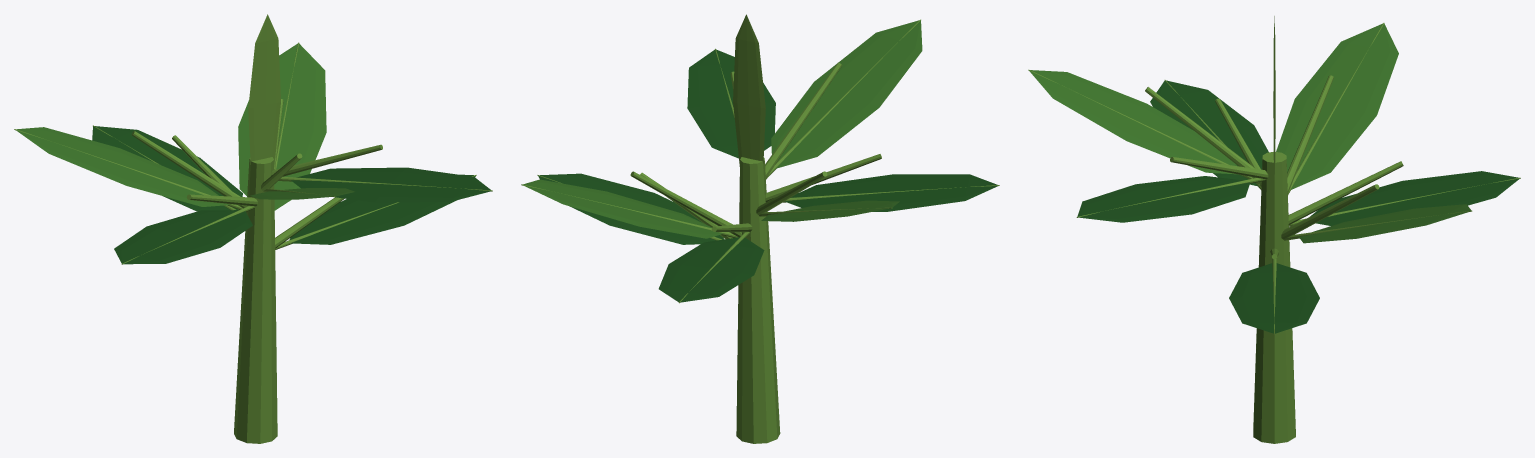
The model's file is edited.glb.
The picture shows the model from 3 angles, left to right: view 1: azimuth 30°, elevation 25°; view 2: azimuth 150°, elevation 25°; view 3: azimuth 270°, elevation 25°; orthographic projection.
Parts seen in each view (by area): view 1: PSEUDOSTEM, LEAF_Paddle.002, LEAF_Paddle.004, LEAF_Paddle, LEAF_Paddle.005, LEAF_Paddle.001, LEAF_CentralSpear, LEAF_Paddle.003, LEAF_Paddle.006, PETIOLE.003, PETIOLE.006, PETIOLE (+1 smaller); view 2: PSEUDOSTEM, LEAF_Paddle.006, LEAF_Paddle.005, LEAF_Paddle, LEAF_Paddle.003, LEAF_Paddle.002, LEAF_CentralSpear, LEAF_Paddle.001, LEAF_Paddle.004, PETIOLE.005, PETIOLE.001, PETIOLE.004 (+1 smaller); view 3: LEAF_Paddle.004, PSEUDOSTEM, LEAF_Paddle.006, LEAF_Paddle, LEAF_Paddle.003, LEAF_Paddle.001, LEAF_Paddle.005, LEAF_Paddle.002, PETIOLE.002, PETIOLE.005, PETIOLE.003, PETIOLE.001 (+2 smaller).
Boxes of the visible parts, x1,y1,x2,y2 form: PSEUDOSTEM: (234, 157, 277, 443); LEAF_Paddle.002: (238, 43, 326, 210); LEAF_Paddle.004: (16, 127, 229, 206); LEAF_Paddle: (291, 167, 490, 202); LEAF_Paddle.005: (114, 210, 252, 264); LEAF_Paddle.001: (289, 174, 475, 244); LEAF_CentralSpear: (248, 14, 280, 166); LEAF_Paddle.003: (92, 126, 242, 211); LEAF_Paddle.006: (250, 188, 354, 199); PETIOLE.003: (131, 131, 247, 208); PETIOLE.006: (271, 144, 382, 176); PETIOLE: (275, 197, 344, 248); PSEUDOSTEM: (736, 157, 780, 443); LEAF_Paddle.006: (771, 20, 922, 168); LEAF_Paddle.005: (784, 174, 998, 211); LEAF_Paddle: (687, 49, 775, 158); LEAF_Paddle.003: (658, 237, 764, 302); LEAF_Paddle.002: (523, 179, 722, 238); LEAF_CentralSpear: (733, 14, 765, 166); LEAF_Paddle.001: (538, 173, 723, 244); LEAF_Paddle.004: (761, 200, 899, 221); PETIOLE.005: (765, 62, 842, 177); PETIOLE.001: (630, 171, 741, 237); PETIOLE.004: (765, 154, 881, 202); LEAF_Paddle.004: (1276, 23, 1398, 189); PSEUDOSTEM: (1253, 152, 1295, 443); LEAF_Paddle.006: (1029, 70, 1237, 174); LEAF_Paddle: (1077, 176, 1250, 222); LEAF_Paddle.003: (1310, 171, 1519, 225); LEAF_Paddle.001: (1229, 263, 1319, 333); LEAF_Paddle.005: (1150, 80, 1268, 186); LEAF_Paddle.002: (1299, 204, 1471, 243); PETIOLE.002: (1288, 161, 1403, 224); PETIOLE.005: (1145, 87, 1261, 184); PETIOLE.003: (1287, 75, 1333, 192); PETIOLE.001: (1281, 184, 1379, 239).
Bounding box in the file's own units: 3.42 × 3.35 × 3.51.
